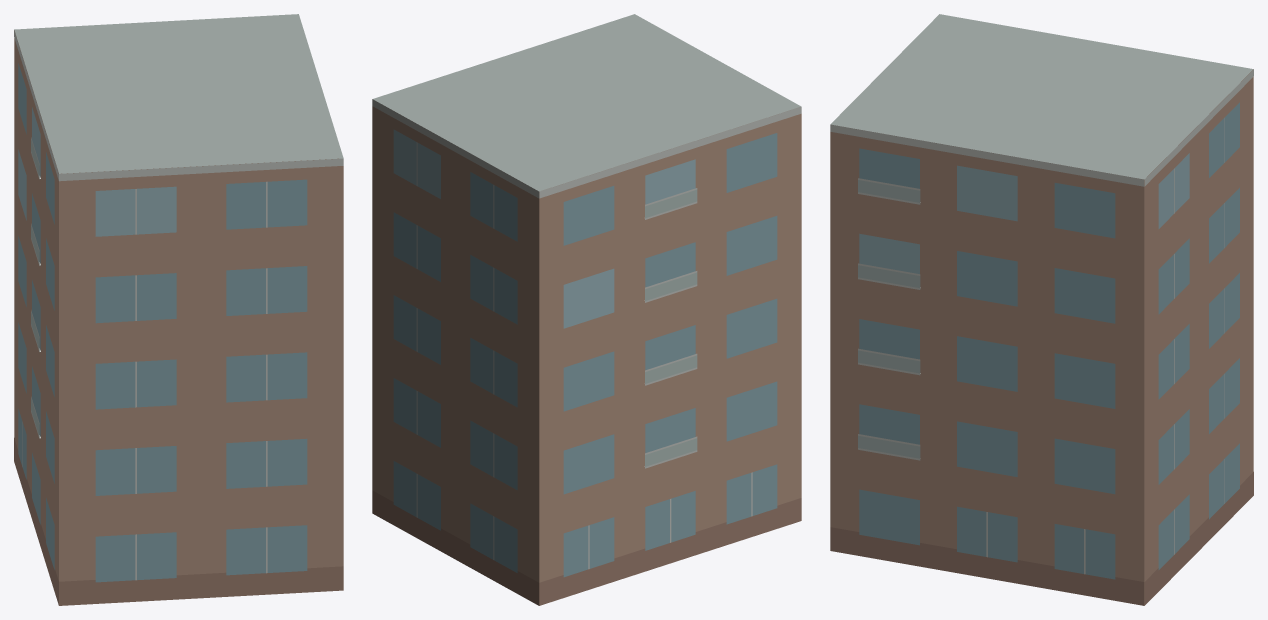
Rendered from survey-upis-32535593.glb.
The picture shows the model from 3 angles, left to right: view 1: azimuth 30°, elevation 25°; view 2: azimuth 150°, elevation 25°; view 3: azimuth 270°, elevation 25°; orthographic projection. The views are drawn at different scales.
Visible parts, largest first — view 1: survey-upis-32535593.tmp; view 2: survey-upis-32535593.tmp; view 3: survey-upis-32535593.tmp.
Part boxes in pixels (<box>): survey-upis-32535593.tmp: <box>14,14,343,605</box>; survey-upis-32535593.tmp: <box>372,14,801,605</box>; survey-upis-32535593.tmp: <box>830,14,1253,605</box>.
Size of the model in its own units: 11.91 by 14.3 by 12.88.
